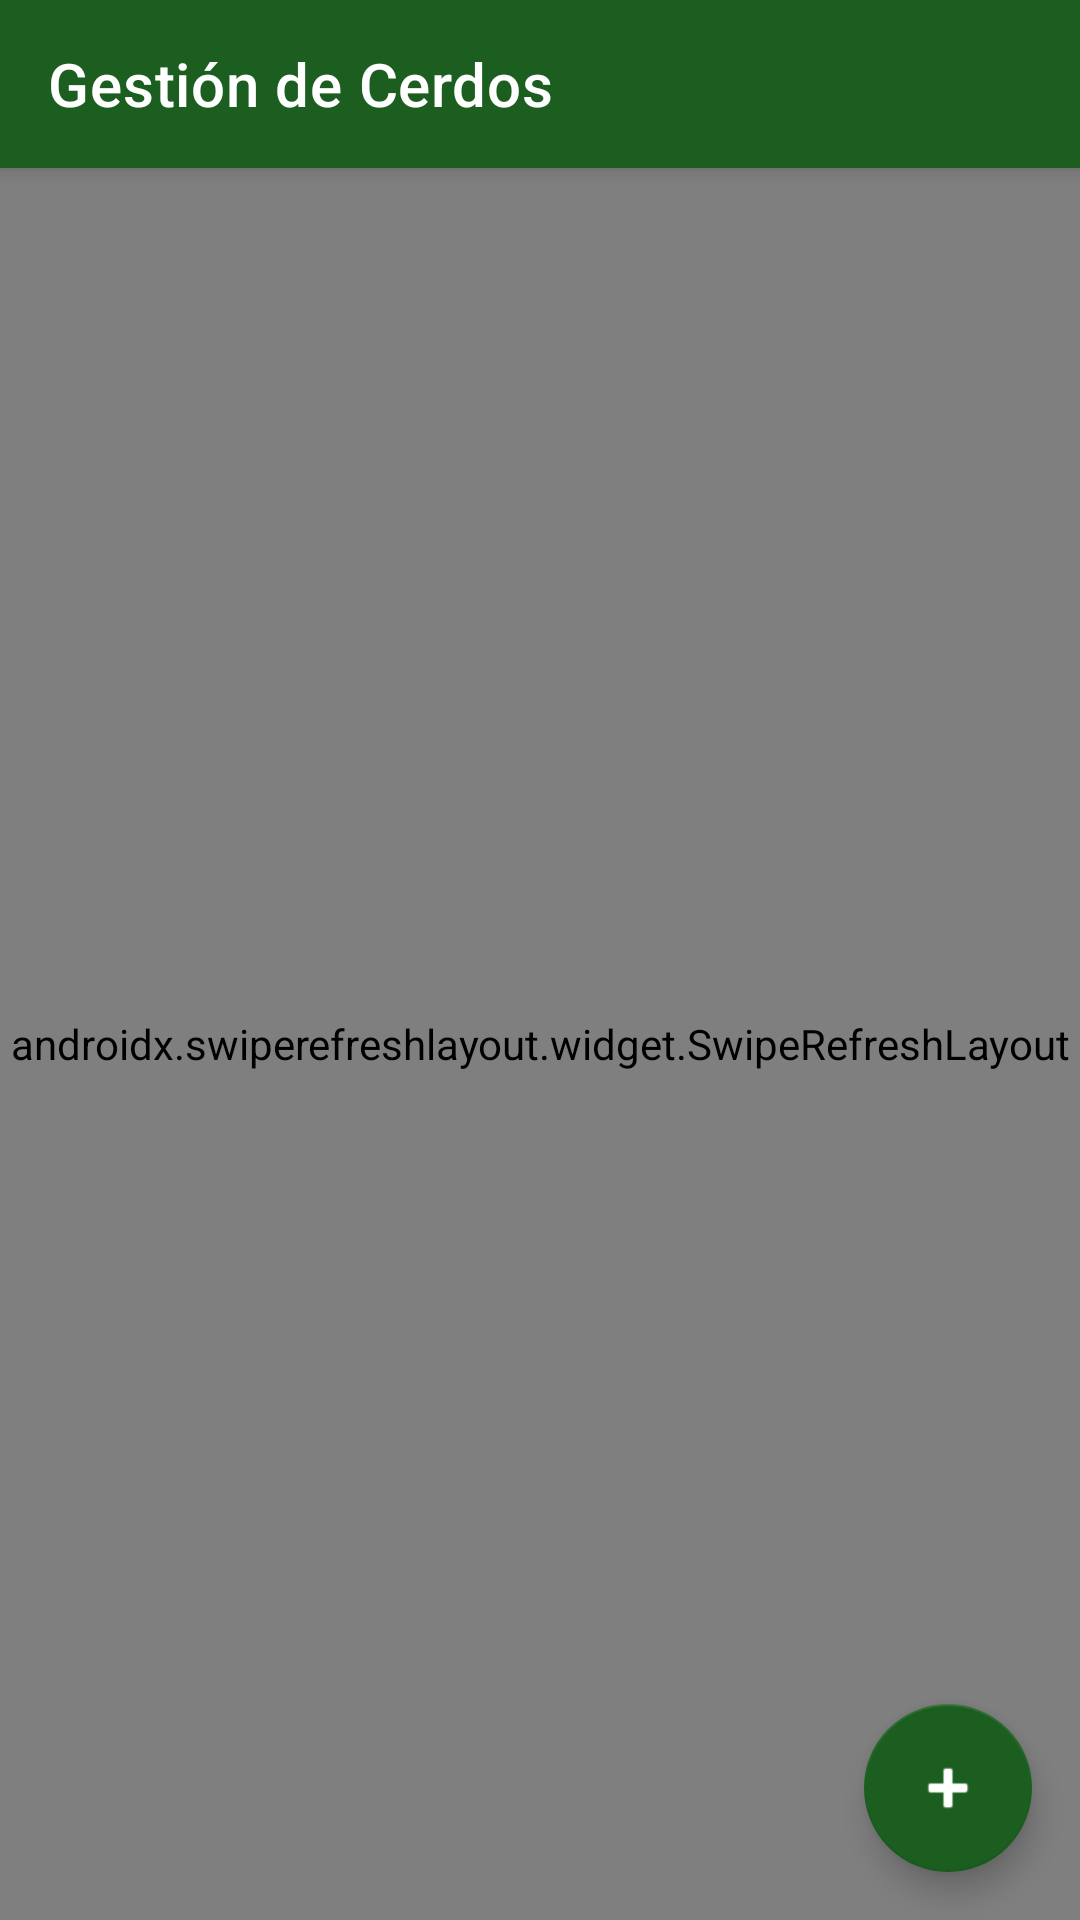

Named icons in this screenshot (1080 × 1920) and their bounding boxes, (x1, y1, x2, y2):
Agregar Cerdo: (864, 1704, 1032, 1872)
